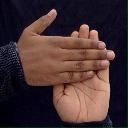hand: (17, 8, 116, 86), (52, 24, 111, 124)
